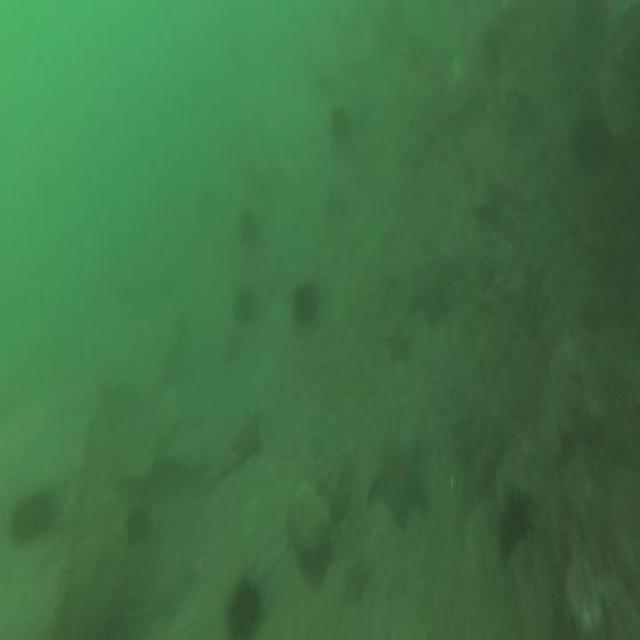echinus: (7, 490, 52, 543), (226, 588, 261, 637), (500, 499, 530, 548), (126, 501, 150, 547), (332, 109, 351, 149), (239, 212, 261, 246), (294, 288, 316, 322)
starfish: (375, 450, 427, 520), (410, 262, 450, 320), (385, 326, 412, 364), (234, 419, 260, 458)
